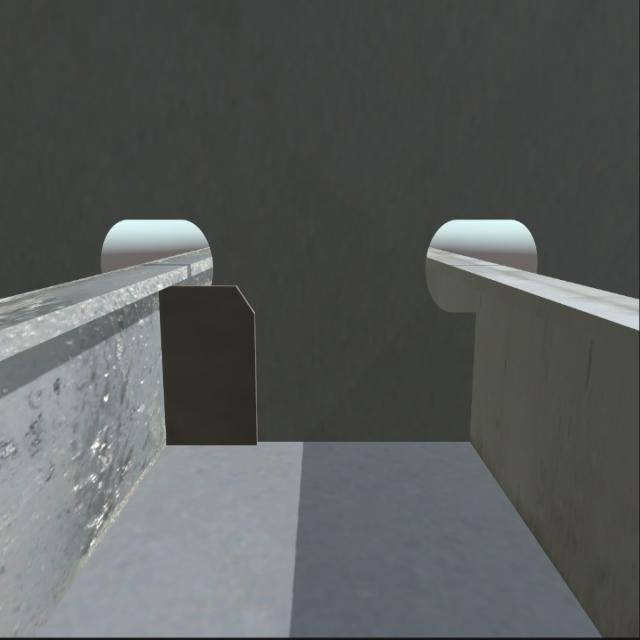fillet_yong_jeop_jang: (164, 439, 473, 452)
longi_yong_jeop_jang: (157, 280, 258, 445), (462, 313, 480, 447), (157, 282, 169, 448)
